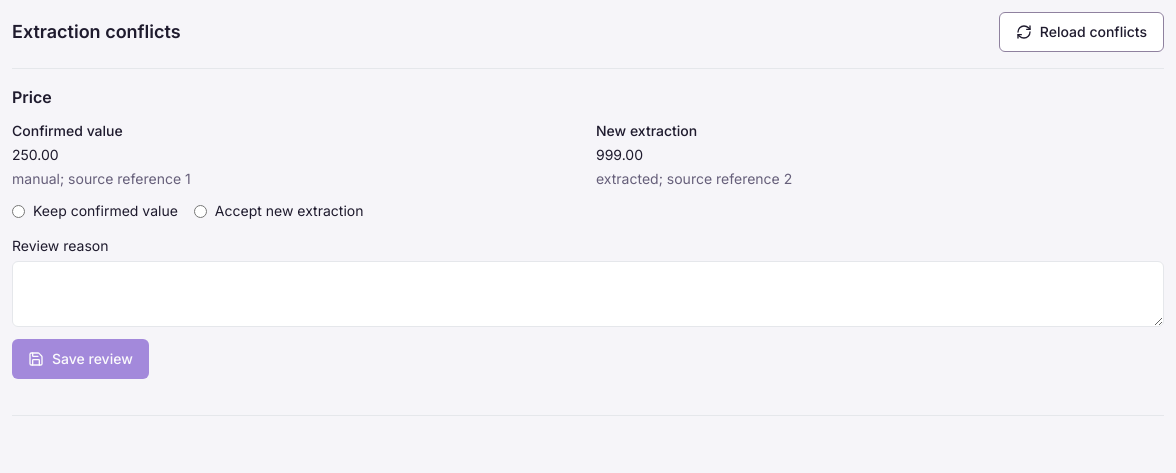
Scenario: preserves choice and reason on stale review and waits for explicit reload
Click the radio button labelled "Keep confirmed value" at x=18, y=211, box left=12, top=204, right=25, bottom=218
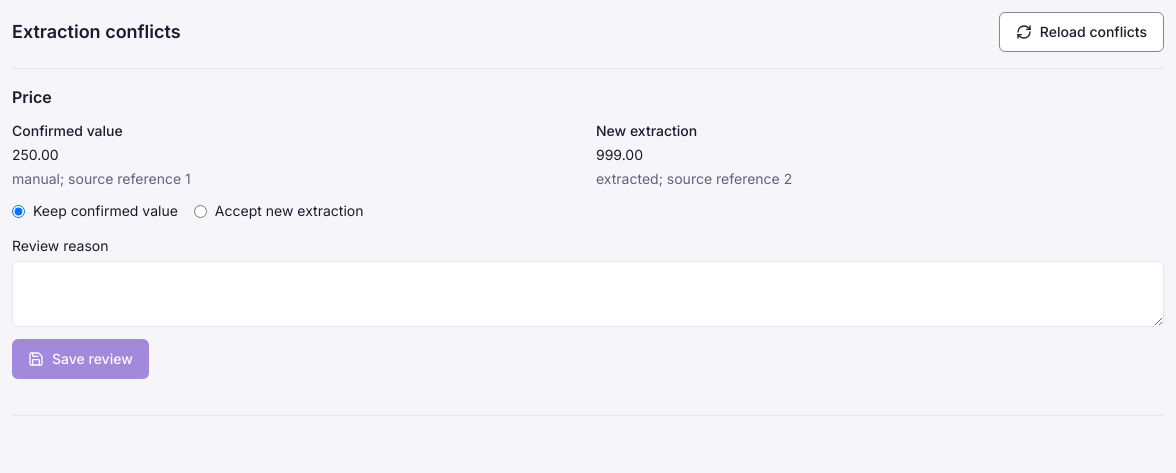
Type "Keep checked source" into the text box labelled "Review reason" at x=588, y=294, box left=12, top=261, right=1164, bottom=327
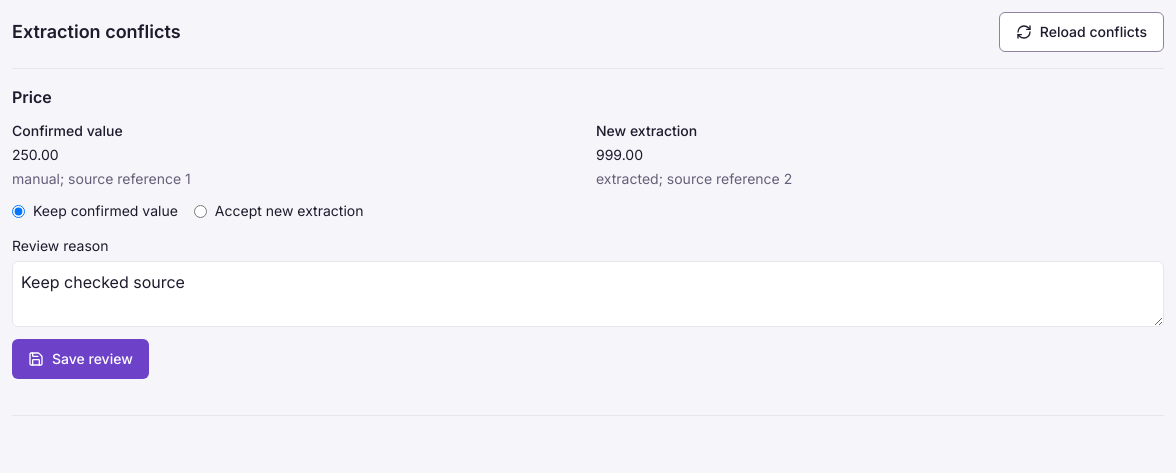
Click the button "Save review" at x=80, y=359, box left=12, top=339, right=149, bottom=379
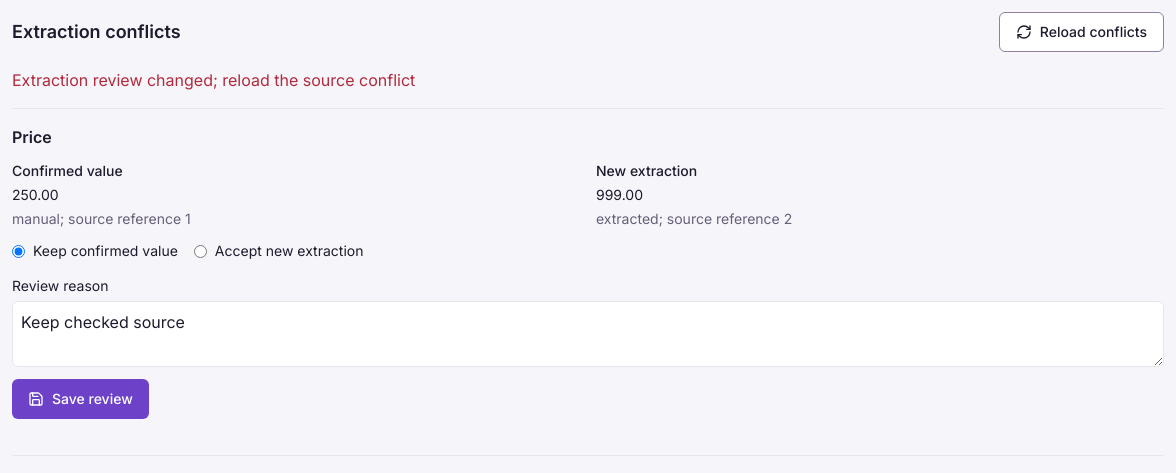
Expected: the radio button labelled "Keep confirmed value" is checked, left=12, top=244, right=25, bottom=258
Expected: the message shows "Extraction review changed", left=12, top=70, right=415, bottom=90
